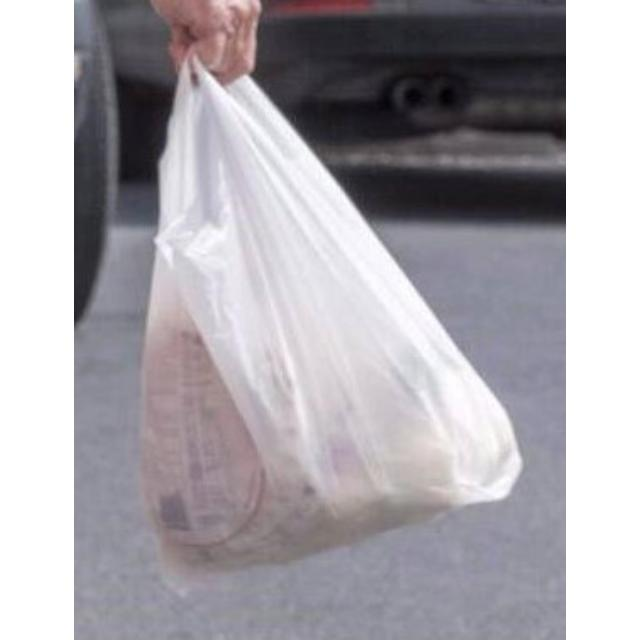plastic: (141, 52, 521, 572)
